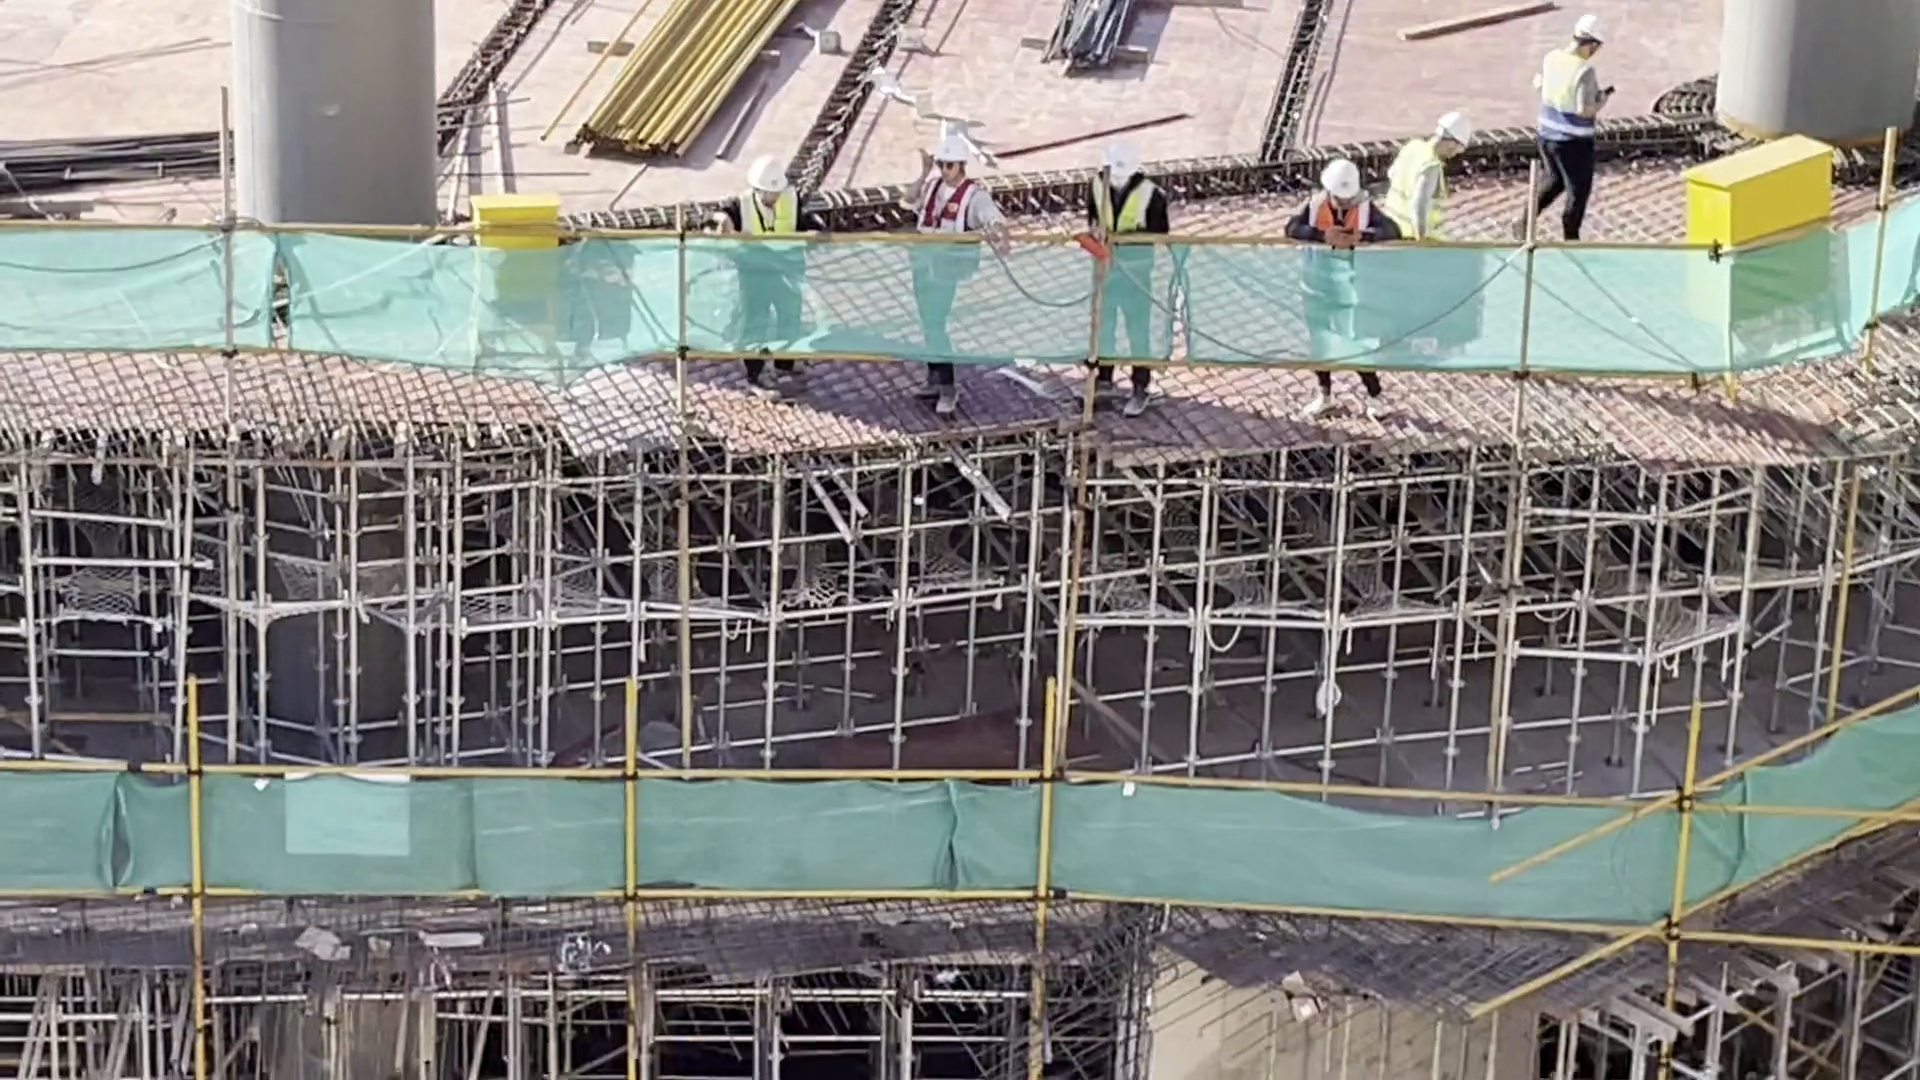helmet: (1315, 160, 1363, 198), (744, 152, 788, 193), (1096, 142, 1145, 179), (1436, 110, 1471, 150), (925, 138, 971, 164), (1573, 16, 1605, 46)
person: (1525, 16, 1618, 245), (1385, 107, 1478, 244), (1276, 150, 1401, 246), (906, 133, 1009, 238), (713, 151, 826, 237), (1085, 141, 1171, 234)
vest: (1532, 45, 1597, 143), (1392, 137, 1448, 239), (1092, 175, 1163, 233), (918, 176, 977, 231), (738, 189, 798, 232), (1309, 193, 1371, 232)
